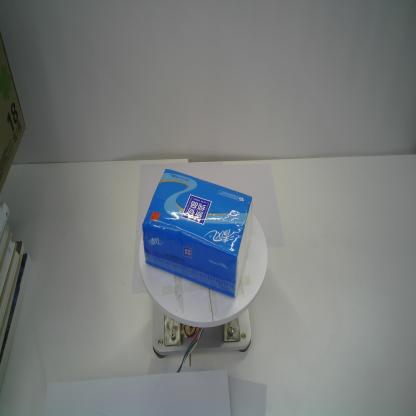Tissue: (142, 166, 255, 298)
